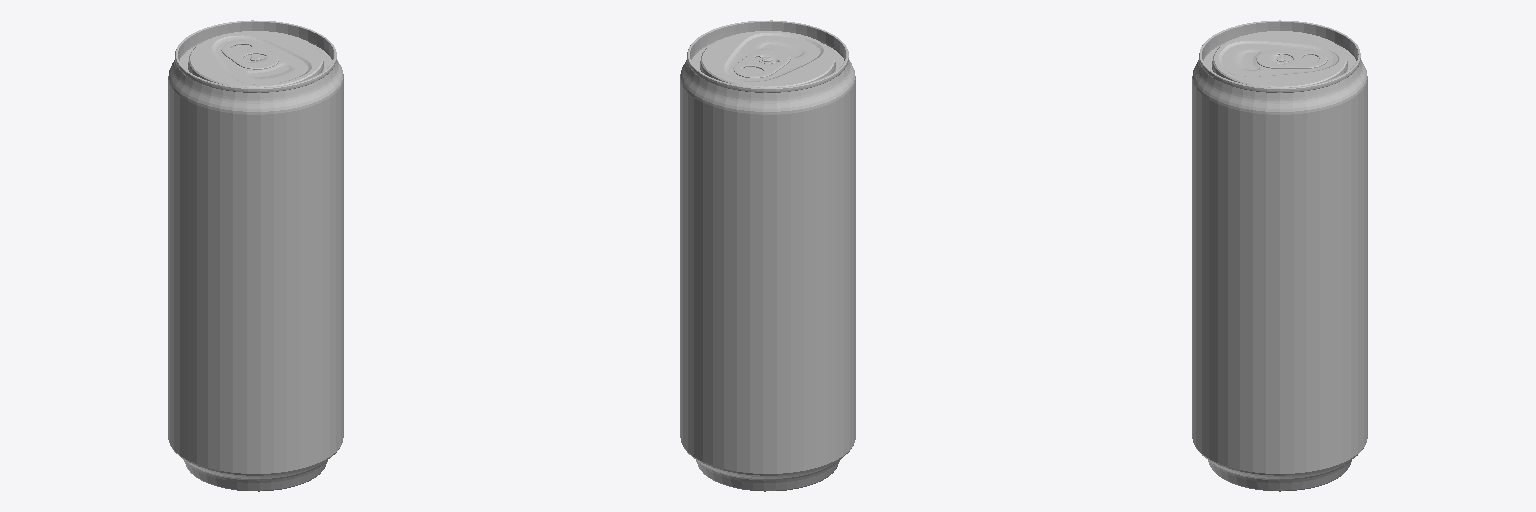
The robot description file, URDF, robot "can":
<robot name="can">
    <link name="link_object">
        <collision>
            <origin rpy="0 0 0" xyz="0.00000 0.00000 0.00000" />
            <geometry>
                <mesh filename="mesh/can/can.obj" />
            </geometry>
        </collision>

        <visual>
            <origin rpy="0 0 0" xyz="0.00000 0.00000 0.00000" />
            <geometry>
                <mesh filename="mesh/can/can.obj" />
            </geometry>
            <material name='grey'/>
        </visual>

        <inertial>
            <origin rpy="0 0 0" xyz="0 0 0" />
            <mass value="0.100" />
            <inertia ixx="0" ixy="0" ixz="0" iyy="0" iyz="0" izz="0" />
        </inertial>
    </link>
    <material name='grey'>
        <color rgba="0.8 0.8 0.8 1.0"/>
    </material>
</robot>

--- What the picture shows (computed from the rendered views, not written in the file) ---
3 views of the same robot in one strip: view 1: azimuth 30°, elevation 25°; view 2: azimuth 150°, elevation 25°; view 3: azimuth 270°, elevation 25° (orthographic).
Robot: can — 1 links, 0 joints (none); root link link_object; default pose: all joints at 0.
Visible links, largest first — view 1: link_object; view 2: link_object; view 3: link_object.
Boxes of the visible links, x1,y1,x2,y2 form: link_object: (168,20,343,491); link_object: (680,20,855,491); link_object: (1192,20,1367,491).
Bounding box of the posed robot: 0.0827 × 0.0827 × 0.2119 m (x, y, z).
1 mesh visuals loaded from 1 distinct referenced files (1 OBJ).